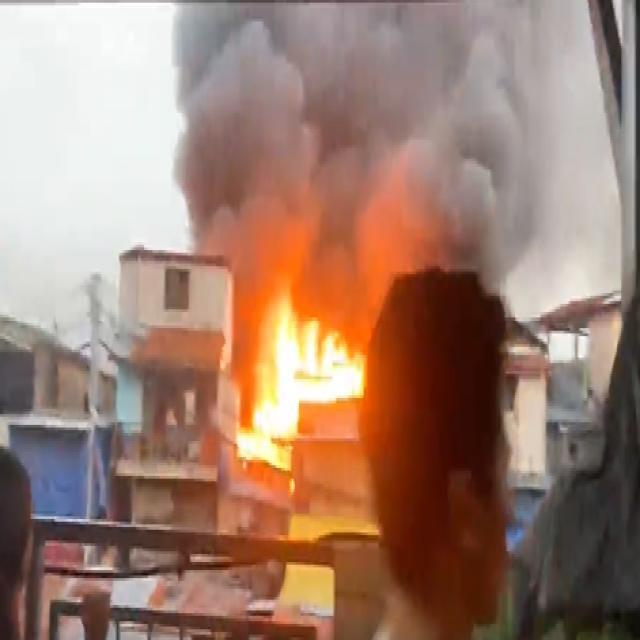Fire: (246, 305, 365, 434)
Smoke: (312, 6, 562, 290), (175, 9, 318, 267)
